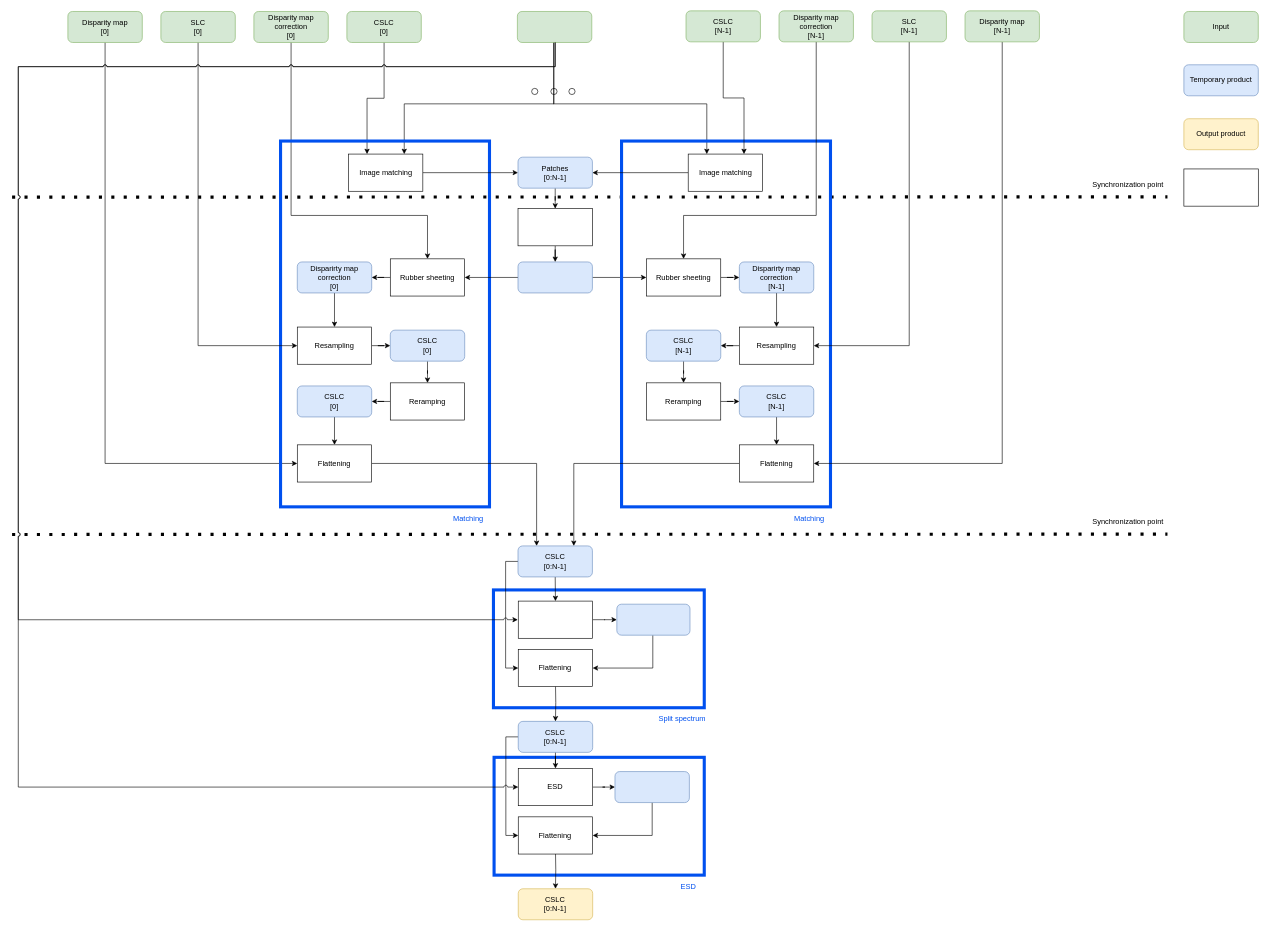
Some shapes in this 1269 by 931 pixel diagram are drawn without their labels. Here are the shapes that lost their labels. From the top down, the centre of each, then its label:
At [554,26]: "Reference CSLC [0:N-1]".
At [1220,187]: "Processing block".
At [554,227]: "Robust 2D fit".
At [554,277]: "matching_poly".
At [555,619]: "Split-Spectrum".
At [653,619]: "iono_phase".
At [651,787]: "ESD_phase".
